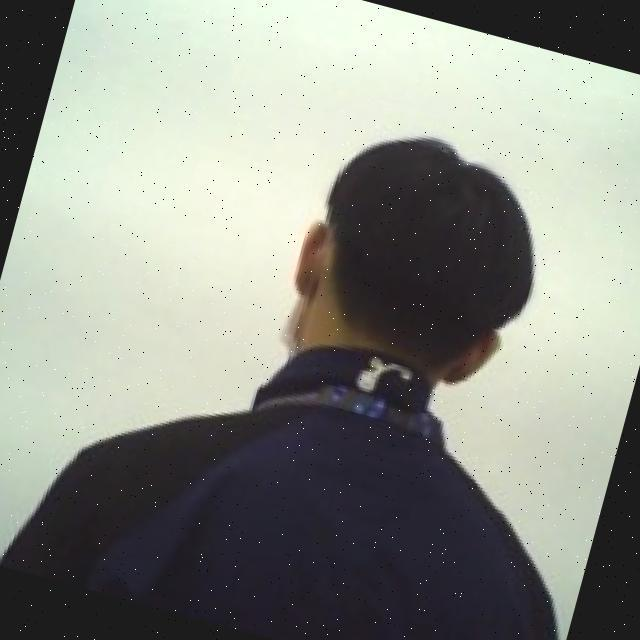no_gloves: (268, 104, 568, 411)
